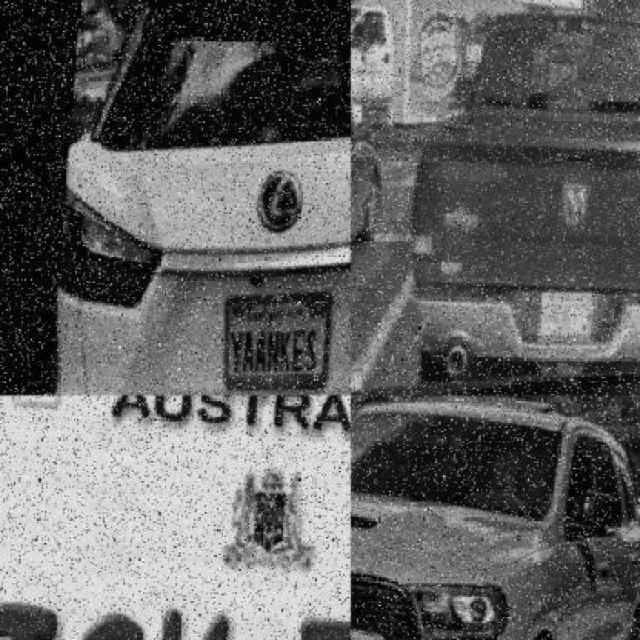licenseplate: (0, 571, 351, 640), (214, 289, 334, 396), (535, 292, 592, 338)
